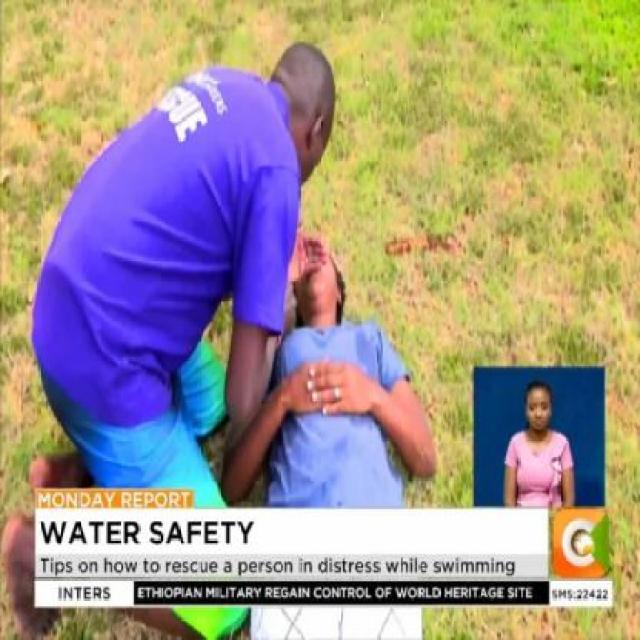out of water: (32, 19, 337, 466), (271, 223, 434, 506)
